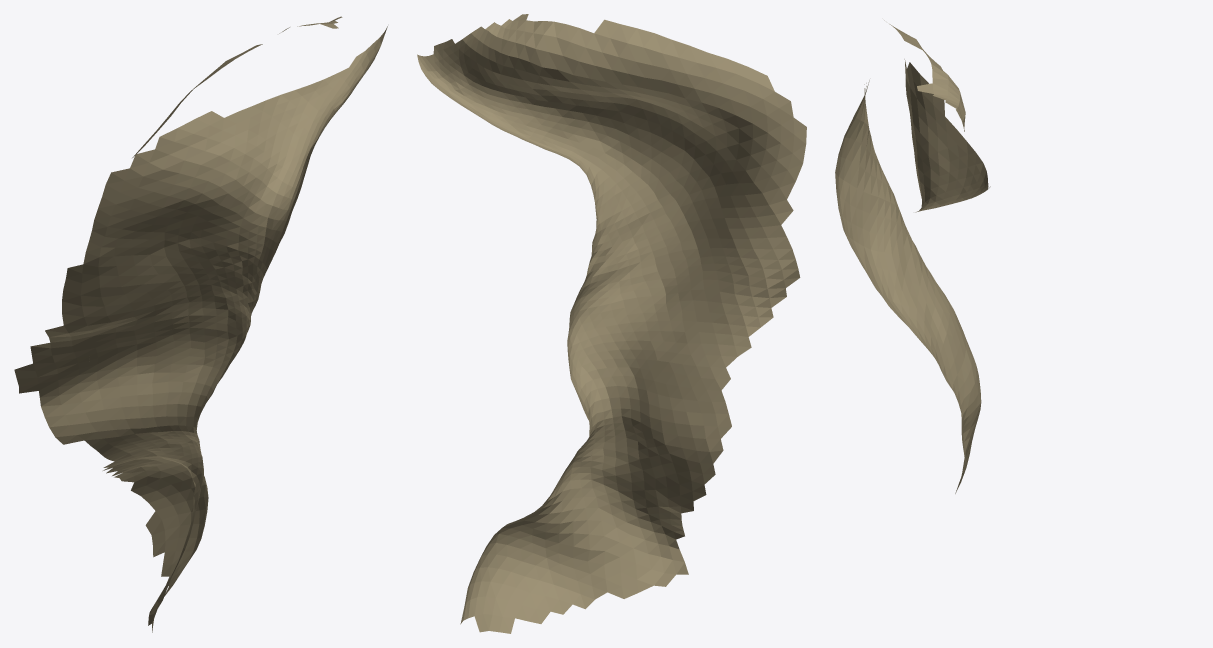
The model's file is rh_pericalcarine.glb.
3 views of the same model, side by side, from view 1: azimuth 30°, elevation 25°; view 2: azimuth 150°, elevation 25°; view 3: azimuth 270°, elevation 25° (orthographic). The views are drawn at different scales.
Visible parts, largest first — view 1: world; view 2: world; view 3: world.
Part boxes in pixels (x1,y1,x2,y2): world: (14, 16, 387, 632); world: (417, 14, 806, 633); world: (835, 20, 990, 493).
Bounding box in the file's own units: 23.1 × 36.32 × 20.07.
